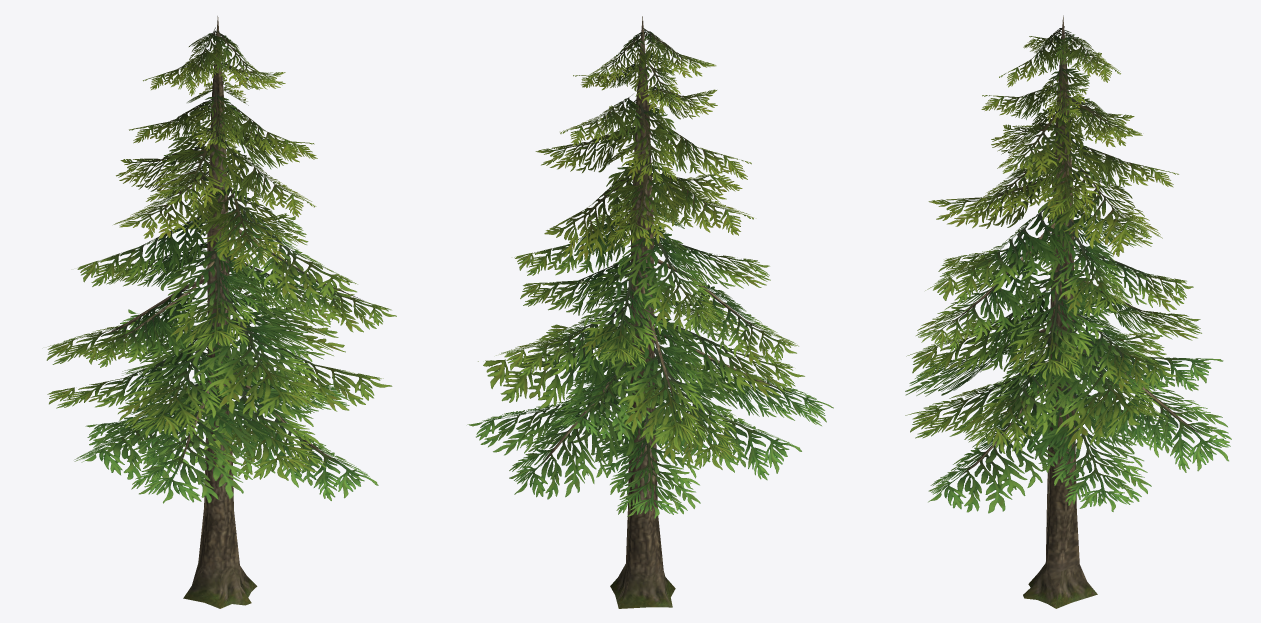
The model's file is songshu02_01.FBX.
3 views of the same model, side by side, from view 1: azimuth 30°, elevation 25°; view 2: azimuth 150°, elevation 25°; view 3: azimuth 270°, elevation 25° (orthographic).
Parts seen in each view (by area): view 1: songshu02_01; view 2: songshu02_01; view 3: songshu02_01.
Boxes of the visible parts, x1=… form: songshu02_01: x1=46, y1=16, x2=396, y2=608; songshu02_01: x1=467, y1=16, x2=833, y2=608; songshu02_01: x1=905, y1=15, x2=1231, y2=608.
Bounding box in the file's own units: 5.38 × 9.01 × 5.18.
